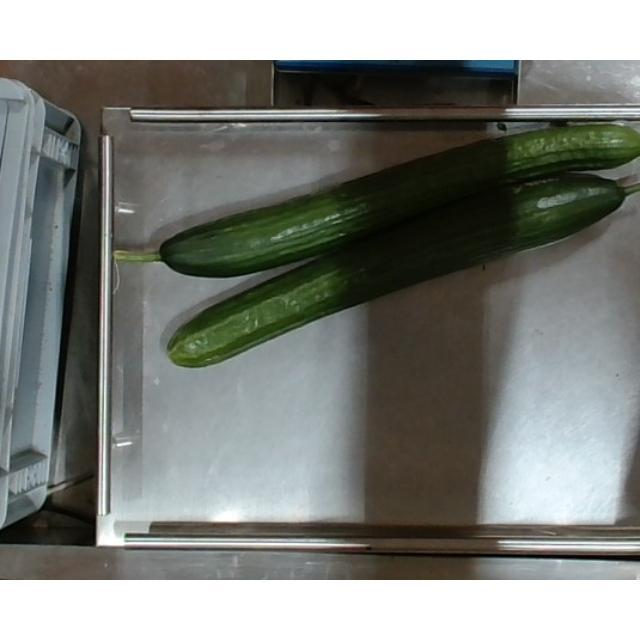cucumber: (164, 176, 640, 372), (112, 122, 640, 278)
